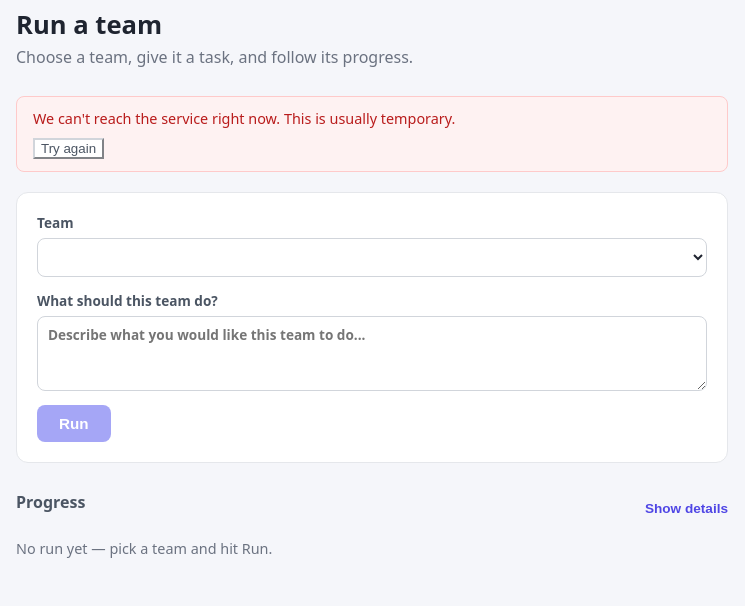
Scenario: MonitorPage backend error handling › drops the unreachable banner when a retry gets an HTTP error instead
The image size is (745, 606).
What coordinates should you click on to do the following:
click the button "Try again"
I would click on:
 (69, 148)
Its box is [33,138,104,159].
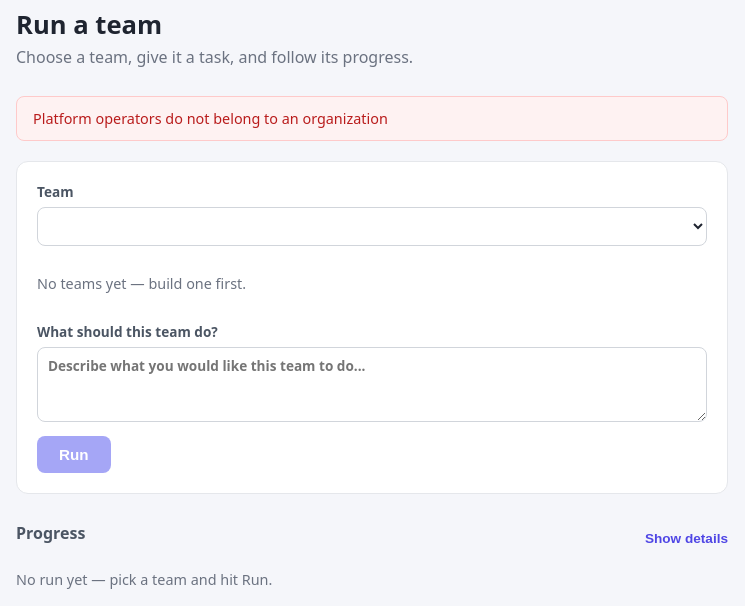
Expected: the text "can't reach the service" is gone
Expected: the text "Platform operators do not belong to an organization" is shown, [16,96,728,141]
